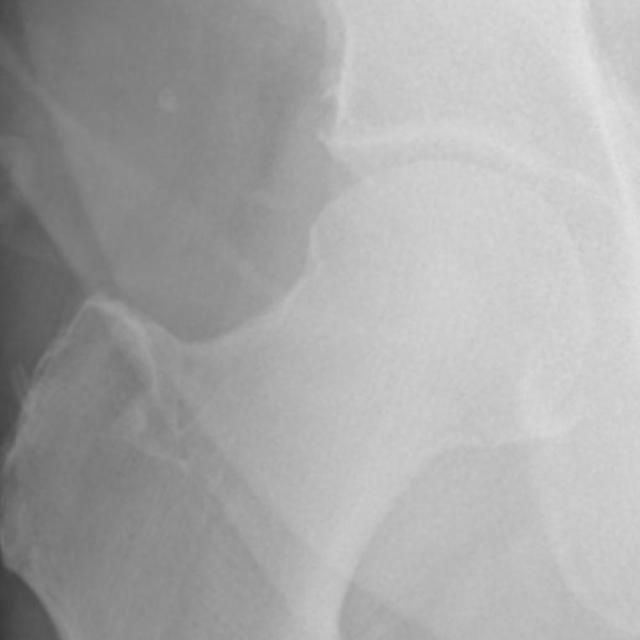Fitted_femural_head: (335, 165, 432, 335)
